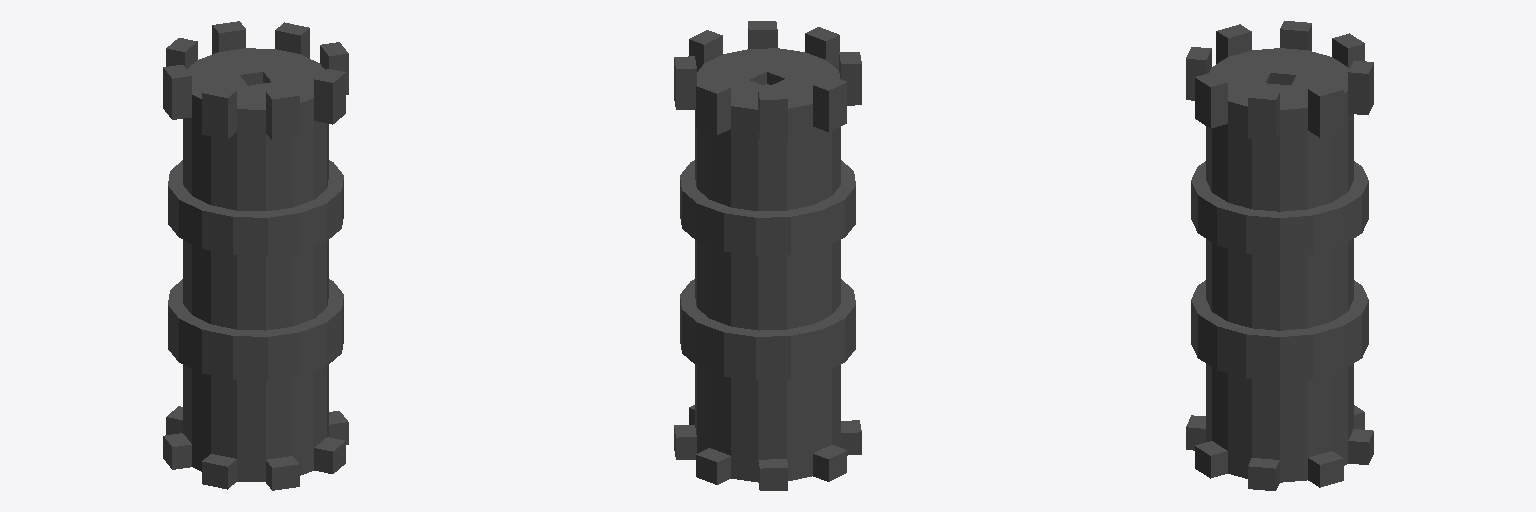
Rendered from Placeholder.obj.
The picture shows the model from 3 angles: view 1: azimuth 30°, elevation 25°; view 2: azimuth 150°, elevation 25°; view 3: azimuth 270°, elevation 25°; orthographic projection.
Parts seen in each view (by area): view 1: Cylinder; view 2: Cylinder; view 3: Cylinder.
Boxes of the visible parts, x1,y1,x2,y2 form: Cylinder: [163, 21, 348, 490]; Cylinder: [674, 21, 861, 490]; Cylinder: [1186, 21, 1373, 490].
Size of the model in its own units: 1.66 by 3.79 by 1.66.